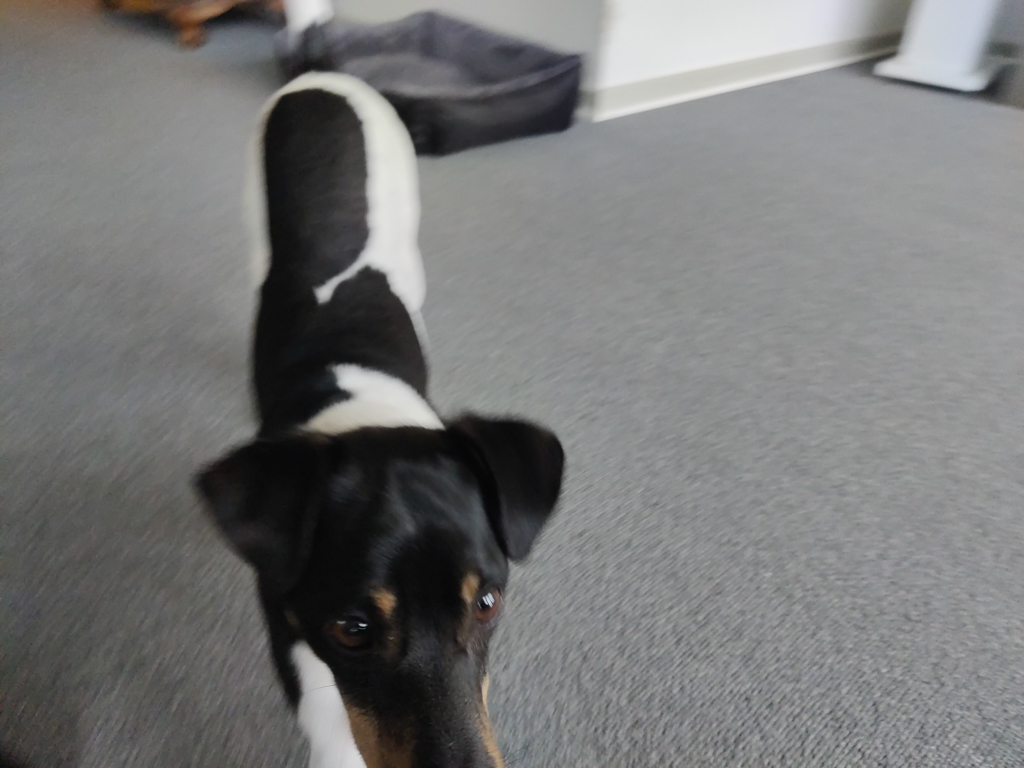Dog: (176, 0, 579, 768)
